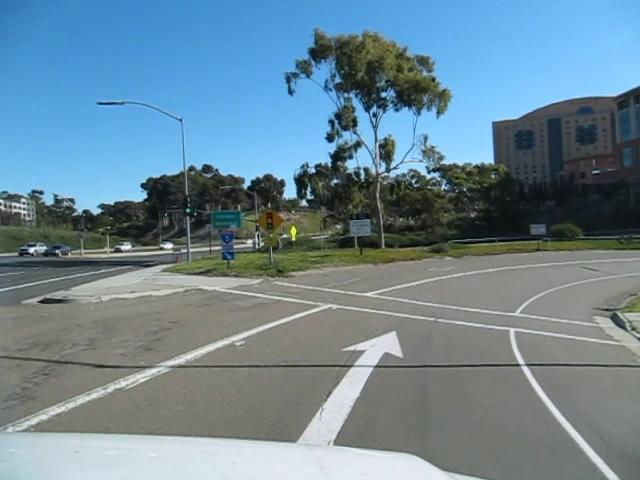signalAhead: (255, 206, 284, 234)
